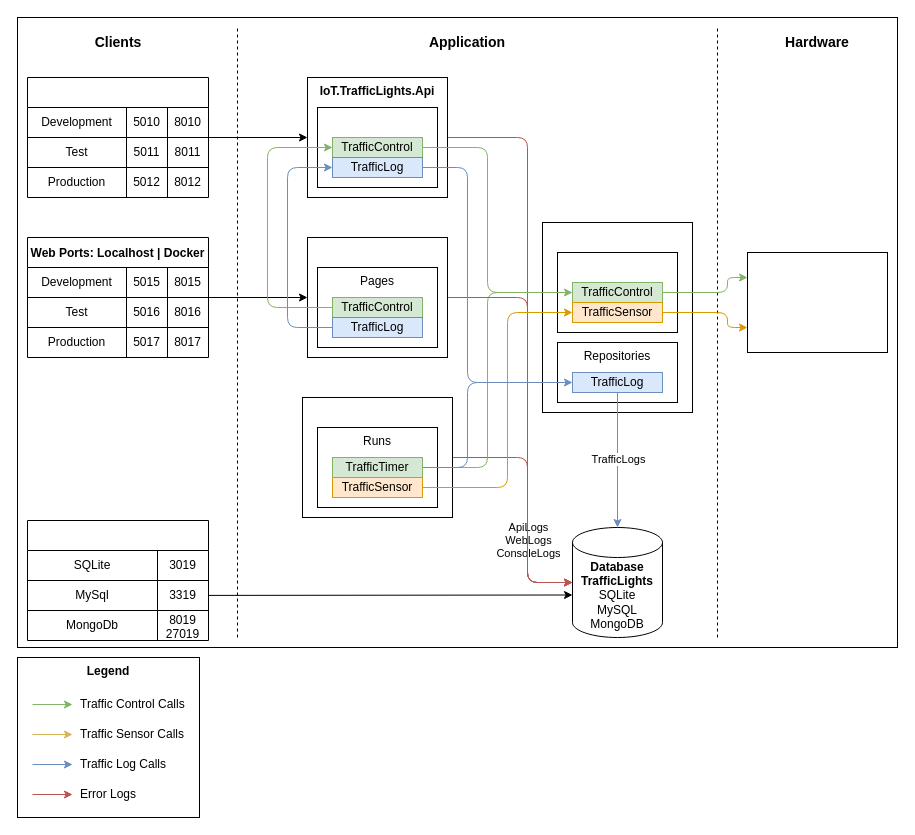
Some shapes in this 915 by 835 pixel diagram are drawn without their labels. Each missing label, with the box of its shape:
Api Ports: Localhost | Docker: (26, 76, 208, 198)
Controllers: (316, 106, 438, 188)
Database Ports: (26, 520, 208, 640)
IoT.TrafficLights.Console: (302, 396, 452, 518)
IoT.TrafficLights.Domain: (542, 222, 692, 412)
IoT.TrafficLights.Web: (306, 236, 448, 358)
Modules: (556, 252, 678, 332)
Raspberry Pi GPIO: (746, 252, 888, 352)
